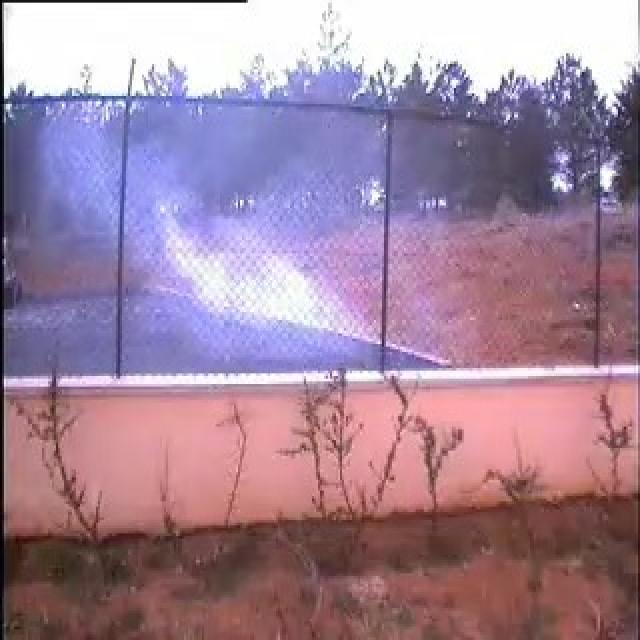smoke: (121, 120, 386, 377)
